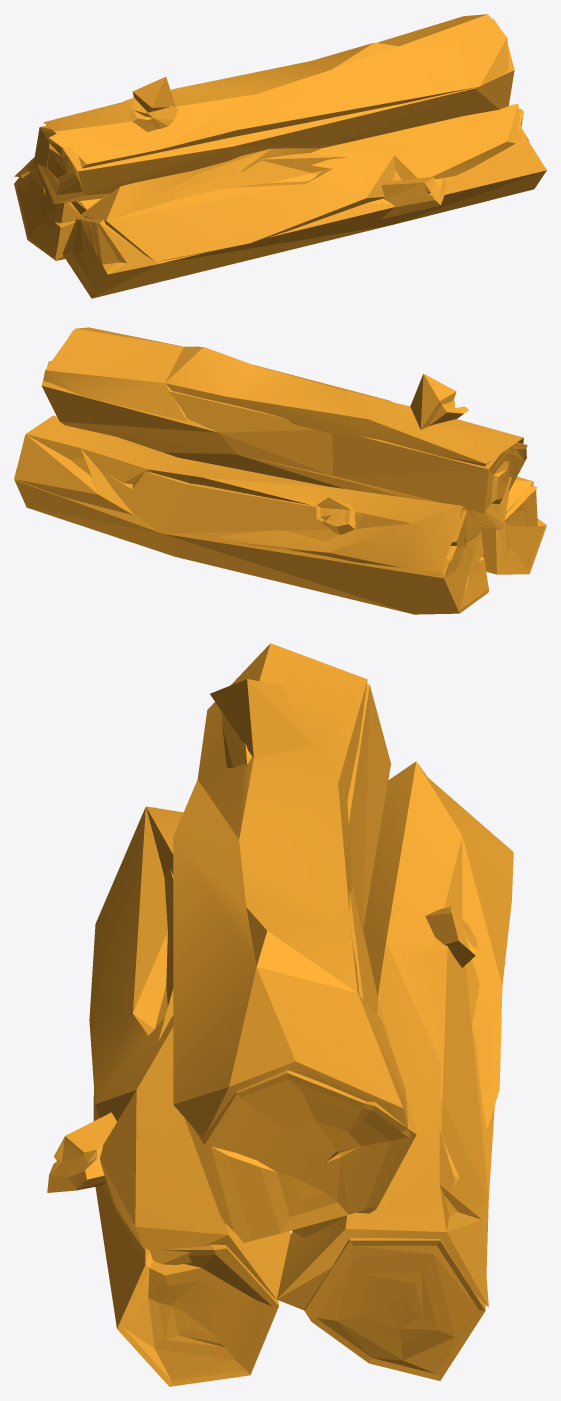
The model's file is SM_Tree_Oak_Log_Pile_A_Snow.fbx.
The picture shows the model from 3 angles, top to bottom: view 1: azimuth 30°, elevation 25°; view 2: azimuth 150°, elevation 25°; view 3: azimuth 270°, elevation 25°; orthographic projection. The views are drawn at different scales.
Parts seen in each view (by area): view 1: tree-oak-log-pile-a-snow; view 2: tree-oak-log-pile-a-snow; view 3: tree-oak-log-pile-a-snow.
Part boxes in pixels (x1=…): tree-oak-log-pile-a-snow: x1=14, y1=14, x2=546, y2=298; tree-oak-log-pile-a-snow: x1=14, y1=327, x2=546, y2=614; tree-oak-log-pile-a-snow: x1=47, y1=643, x2=513, y2=1386.
Size of the model in its own units: 3.05 by 1.23 by 1.34.
